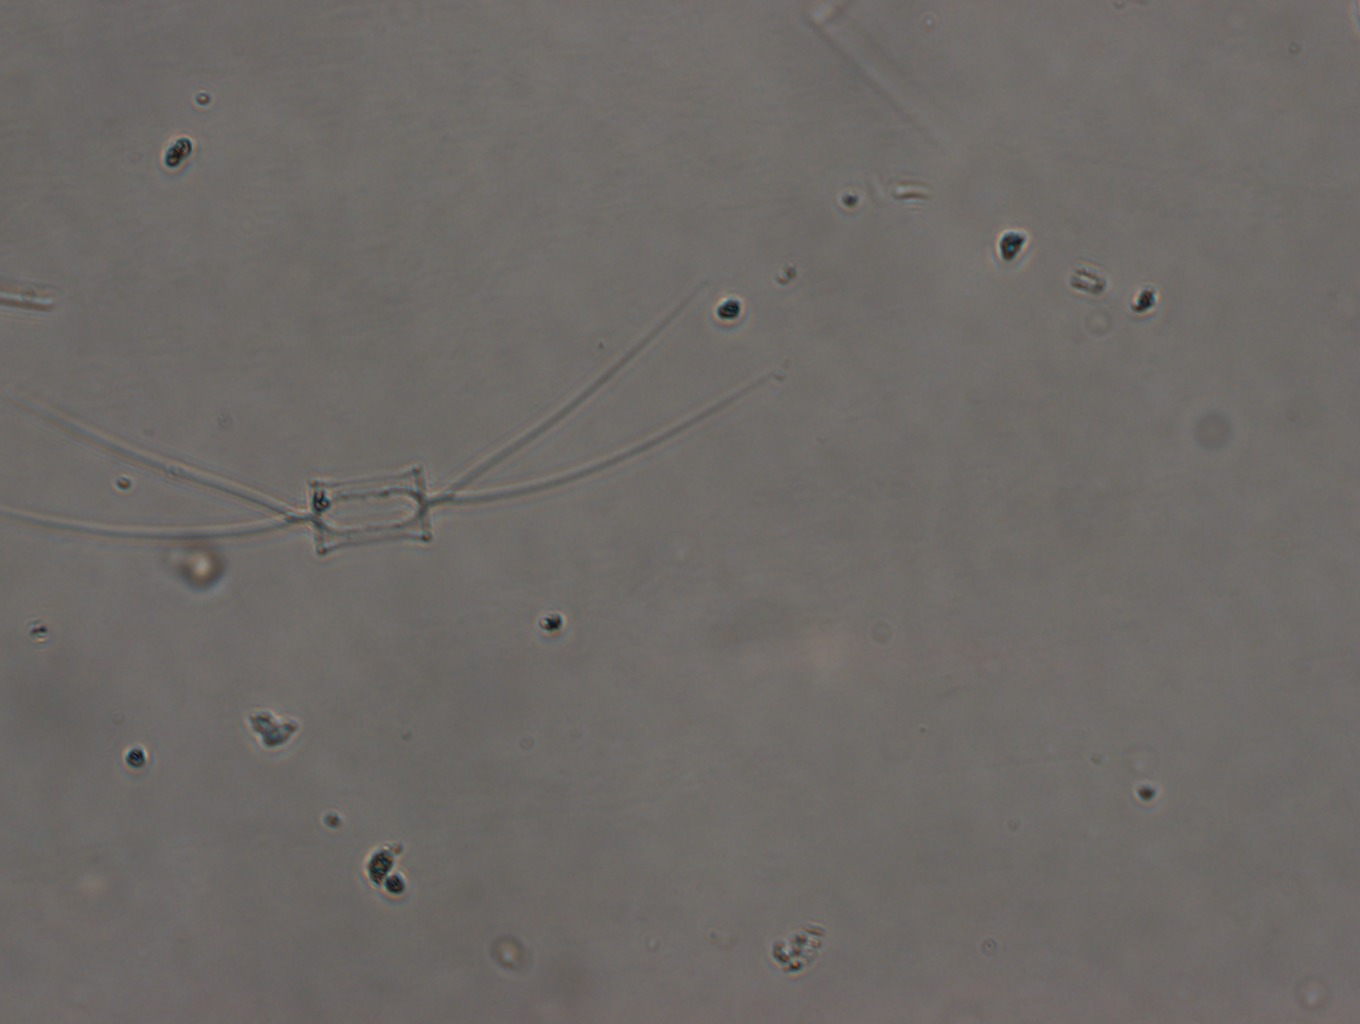chaetoceros: (1, 282, 777, 565)
